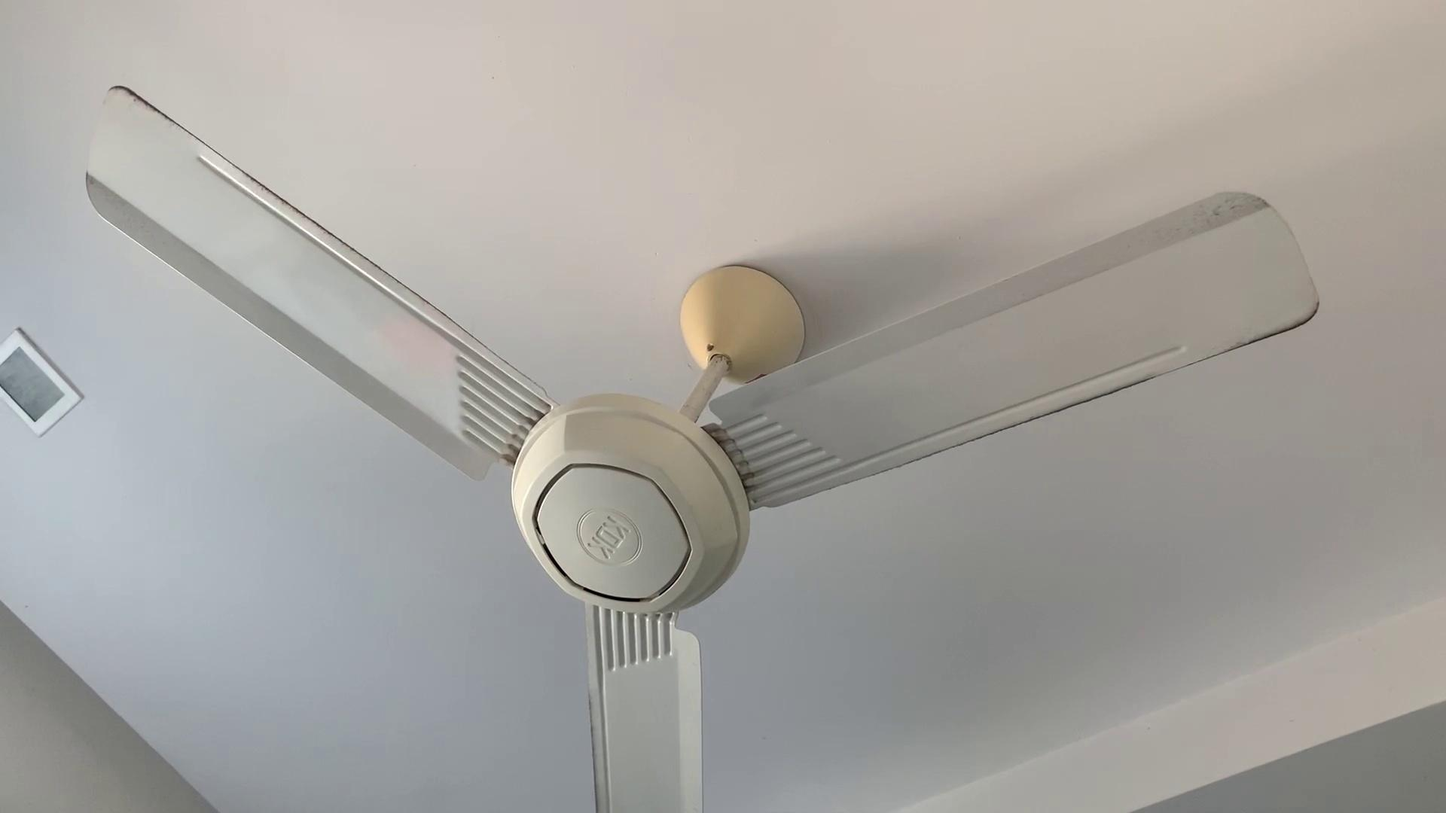fan: (73, 79, 1350, 813)
light: (0, 312, 87, 465)
